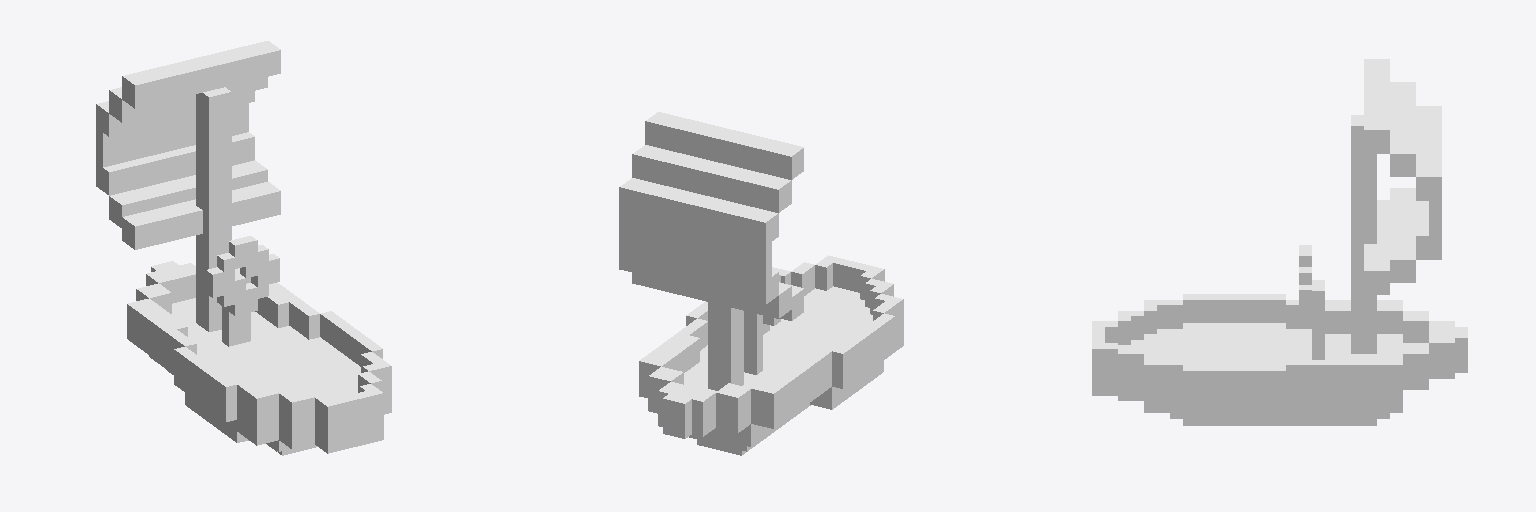
File: id-beach-pirateship.obj
The picture shows the model from 3 angles: view 1: azimuth 30°, elevation 25°; view 2: azimuth 150°, elevation 25°; view 3: azimuth 270°, elevation 25°; orthographic projection.
Size of the model in its own units: 14 by 27 by 29.